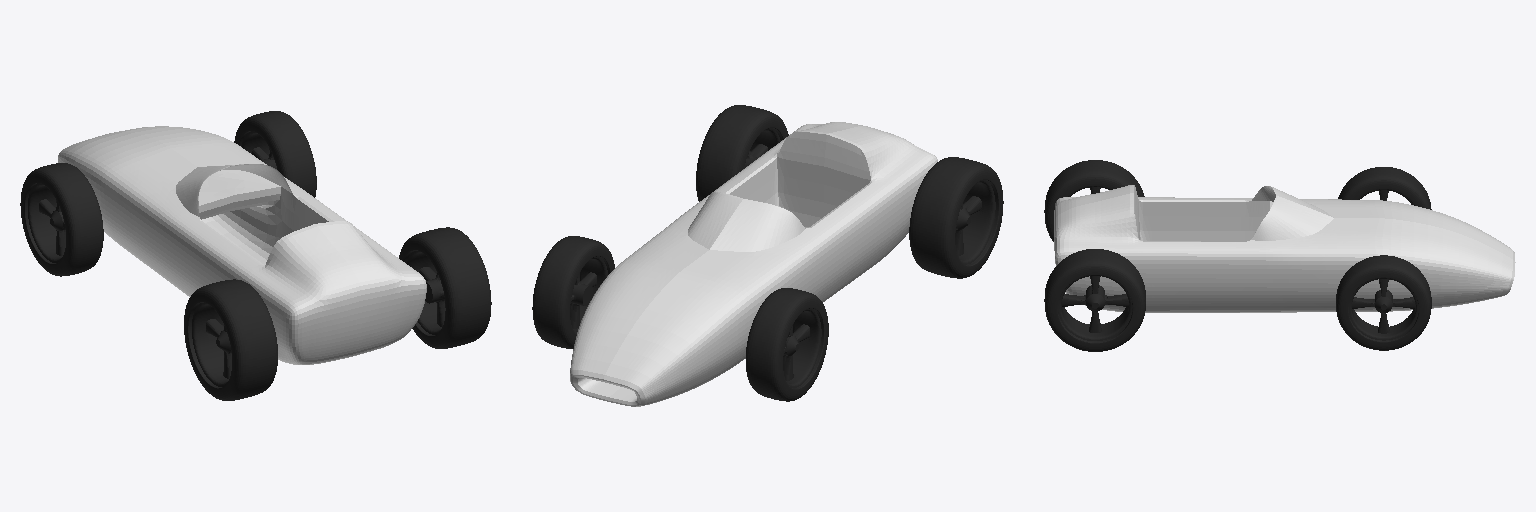
The robot description file, URDF, robot "formular_car":
<?xml version="1.0" encoding="UTF-8"?>
<robot name="formular_car">
    <material name="tire_color">
        <color rgba="0.2 0.2 0.2 1.0"/>
    </material>
    <material name="body_color">
        <color rgba="0.9 0.9 0.9 1.0"/>
    </material>

    <!--* Body Link  -->
    <link name="body">
        <inertial>
            <mass value="800.0"/>
            <inertia ixx="1.0" ixy="0.0" ixz="0.0" iyy="1.0" iyz="0.0" izz="1.0"/>
        </inertial>
        <visual>
            <geometry>
                <mesh filename="./components/body.stl" scale="1 1 1"/>
            </geometry>
            <material name="body_color"/>
        </visual>
        <collision>
            <geometry>
                <mesh filename="./components/body.stl" scale="1 1 1"/>
            </geometry>
        </collision>
    </link>

    <!--* Steering link -->
    <link name="steering_fl">
        <inertial>
            <mass value="0.5"/>
            <inertia ixx="0.005" iyy="0.005" izz="0.005"/>
        </inertial>
    </link>

    <link name="steering_fr">
        <inertial>
            <mass value="0.5"/>
            <inertia ixx="0.005" iyy="0.005" izz="0.005"/>
        </inertial>
    </link>

    <link name="steering_rl">
        <inertial>
            <mass value="0.5"/>
            <inertia ixx="0.005" iyy="0.005" izz="0.005"/>
        </inertial>
    </link>

    <link name="steering_rr">
        <inertial>
            <mass value="0.5"/>
            <inertia ixx="0.005" iyy="0.005" izz="0.005"/>
        </inertial>
    </link>
    
    <!--* Wheel Link -->
    <link name="wheel_fl">
        <inertial>
            <mass value="10.0"/>
            <inertia ixx="0.2" iyy="0.5" izz="0.5"/>
        </inertial>
        <visual>
            <geometry>
                <mesh filename="./components/wheel_FL.stl" scale="1 1 1"/>
            </geometry>
            <material name="tire_color"/>
        </visual>
        <collision>
            <geometry>
                <mesh filename="./components/wheel_FL.stl" scale="1 1 1"/>
            </geometry>
        </collision>
    </link>

    <link name="wheel_fr">
        <inertial>
            <mass value="10.0"/>
            <inertia ixx="0.2" iyy="0.5" izz="0.5"/>
        </inertial>
        <visual>
            <geometry>
                <mesh filename="./components/wheel_FR.stl" scale="1 1 1"/>
            </geometry>
            <material name="tire_color"/>
        </visual>
        <collision>
            <geometry>
                <mesh filename="./components/wheel_FR.stl" scale="1 1 1"/>
            </geometry>
        </collision>
    </link>

    <link name="wheel_rl">
        <inertial>
            <mass value="10.0"/>
            <inertia ixx="0.2" iyy="0.5" izz="0.5"/>
        </inertial>
        <visual>
            <geometry>
                <mesh filename="./components/wheel_RL.stl" scale="1 1 1"/>
            </geometry>
            <material name="tire_color"/>
        </visual>
        <collision>
            <geometry>
                <mesh filename="./components/wheel_RL.stl" scale="1 1 1"/>
            </geometry>
        </collision>
    </link>

    <link name="wheel_rr">
        <inertial>
            <mass value="10.0"/>
            <inertia ixx="0.2" iyy="0.5" izz="0.5"/>
        </inertial>
        <visual>
            <geometry>
                <mesh filename="./components/wheel_RR.stl" scale="1 1 1"/>
            </geometry>
            <material name="tire_color"/>
        </visual>
        <collision>
            <geometry>
                <mesh filename="./components/wheel_RR.stl" scale="1 1 1"/>
            </geometry>
        </collision>
    </link>


    <!-- ======================== -->
    <!--     FRONT LEFT WHEEL     -->
    <!-- ======================== -->
    <!--* Steering Joint -->
    <joint name="steer_joint_fl" type="revolute">
        <origin xyz="-1.05 1.4 0.09" rpy="0.0 0.0 0.0"/>
        <parent link="body"/>
        <child link="steering_fl"/>
        <axis xyz="0.0 0.0 1.0"/>
        <limit lower="-0.5" upper="0.5" effort="80" velocity="100"/>
    </joint>

    <!--* Wheel joint -->
    <joint name="wheel_joint_fl" type="continuous">
        <parent link="steering_fl"/>
        <child link="wheel_fl"/>
        <axis xyz="1.0 0.0 0.0"/>
    </joint>

    <!-- ========================= -->
    <!--     FRONT RIGHT WHEEL     -->
    <!-- ========================= -->
    <!--* Steering Joint -->
    <joint name="steer_joint_fr" type="revolute">
        <origin xyz="1.05 1.4 0.09" rpy="0.0 0.0 0.0"/>
        <parent link="body"/>
        <child link="steering_fr"/>
        <axis xyz="0.0 0.0 1.0"/>
        <limit lower="-0.5" upper="0.5" effort="80" velocity="100"/>
    </joint>

    <!--* Wheel joint -->
    <joint name="wheel_joint_fr" type="continuous">
        <parent link="steering_fr"/>
        <child link="wheel_fr"/>
        <axis xyz="1.0 0.0 0.0"/>
    </joint>

    <!-- ======================= -->
    <!--     RESR LEFT WHEEL     -->
    <!-- ======================= -->
    <!--* Steering Joint -->
    <joint name="steer_joint_rl" type="fixed">
        <origin xyz="-1.05 -1.5 0.12" rpy="0.0 0.0 0.0"/>
        <parent link="body"/>
        <child link="steering_rl"/>
    </joint>

    <!--* Wheel joint -->
    <joint name="wheel_joint_rl" type="continuous">
        <parent link="steering_rl"/>
        <child link="wheel_rl"/>
        <axis xyz="1.0 0.0 0.0"/>
    </joint>

    <!-- ======================== -->
    <!--     REAR RIGHT WHEEL     -->
    <!-- ======================== -->
    <!--* Steering Joint -->
    <joint name="steer_joint_rr" type="fixed">
        <origin xyz="1.05 -1.5 0.12" rpy="0.0 0.0 0.0"/>
        <parent link="body"/>
        <child link="steering_rr"/>
    </joint>

    <!--* Wheel joint -->
    <joint name="wheel_joint_rr" type="continuous">
        <parent link="steering_rr"/>
        <child link="wheel_rr"/>
        <axis xyz="1.0 0.0 0.0"/>
    </joint>
</robot>

--- What the picture shows (computed from the rendered views, not written in the file) ---
The picture shows the robot from 3 angles, left to right: view 1: azimuth 30°, elevation 25°; view 2: azimuth 150°, elevation 25°; view 3: azimuth 270°, elevation 25°; orthographic projection.
Model formular_car with 9 links and 8 joints (2 revolute, 4 continuous, 2 fixed), rooted at body, posed all joints at 0.
Visible links, largest first — view 1: body, wheel_rl, wheel_rr, wheel_fl, wheel_fr; view 2: body, wheel_rl, wheel_fl, wheel_fr, wheel_rr; view 3: body, wheel_rr, wheel_fr, wheel_rl, wheel_fl.
Link boxes in pixels (box(x1,y1,x2,y2)): body: box(58, 126, 426, 364); wheel_rl: box(184, 279, 277, 400); wheel_rr: box(399, 227, 491, 348); wheel_fl: box(20, 163, 103, 276); wheel_fr: box(234, 111, 316, 197); body: box(570, 122, 937, 406); wheel_rl: box(909, 157, 1003, 278); wheel_fl: box(746, 288, 828, 401); wheel_fr: box(532, 236, 614, 348); wheel_rr: box(696, 105, 788, 201); body: box(1054, 185, 1515, 312); wheel_rr: box(1044, 249, 1145, 351); wheel_fr: box(1336, 255, 1431, 350); wheel_rl: box(1044, 160, 1144, 241); wheel_fl: box(1338, 167, 1431, 209).
Bounding box of the posed robot: 2.53 × 4.74 × 1.21 m (x, y, z).
Meshes: 5 distinct files referenced, 5 mesh visuals loaded (5 binary STL).